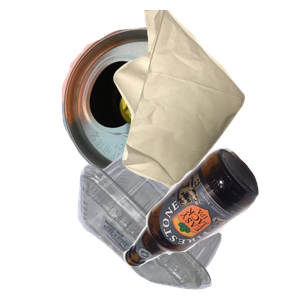glass: (120, 145, 300, 300)
metal: (59, 10, 273, 189)
plastic: (75, 147, 289, 300)
trash: (111, 10, 300, 190)
